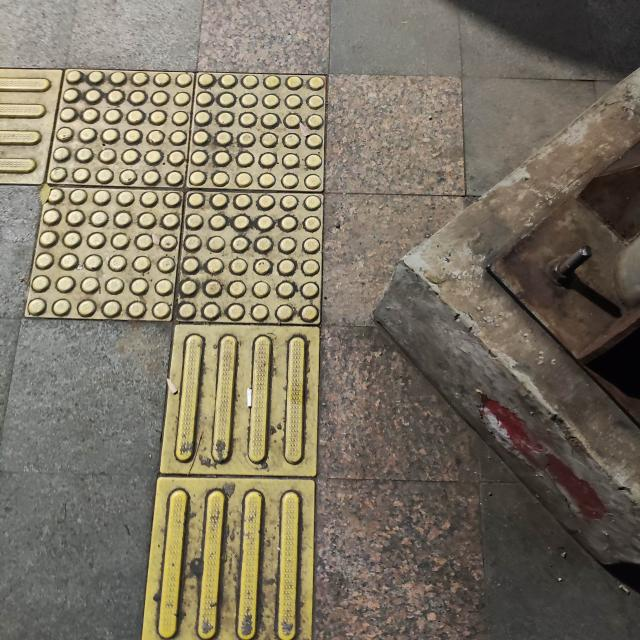kiri: (0, 52, 337, 424)
